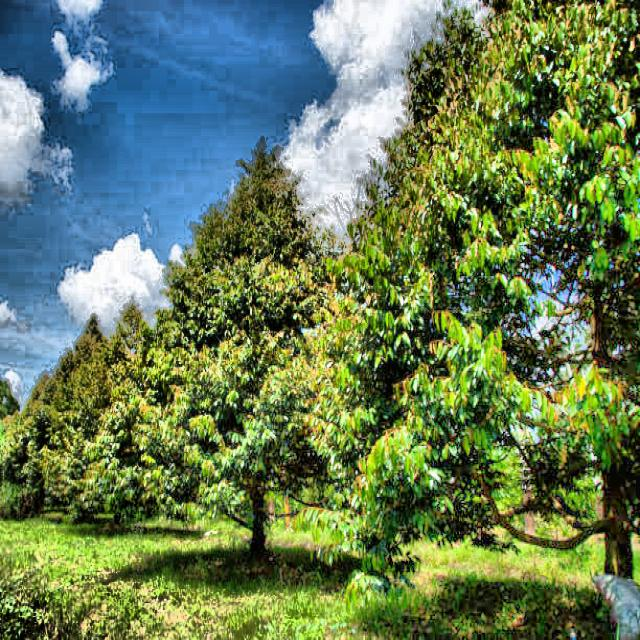arvore: (576, 269, 640, 602), (236, 414, 283, 570)
